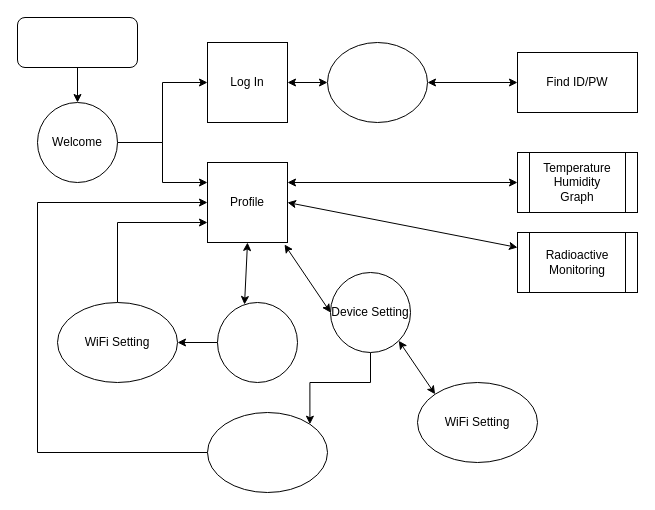
This 655x510 diagram has some shape labels left out. Here are the shapes that lost their labels. From the top down, the centre of each, then its label:
At (x=77, y=42): "앱 실행".
At (x=377, y=82): "Sign Up".
At (x=257, y=342): "Add Device".
At (x=267, y=452): "Change Device Name".
